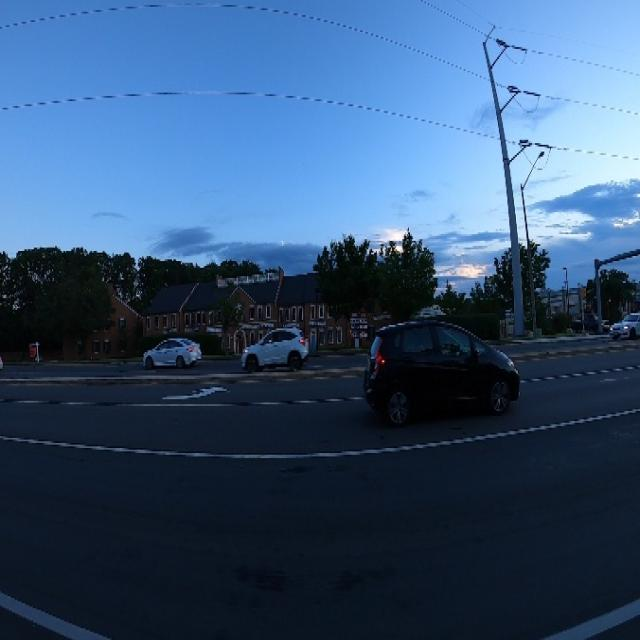cars: (354, 302, 521, 428), (227, 313, 310, 379), (140, 331, 208, 378), (609, 297, 640, 355)
